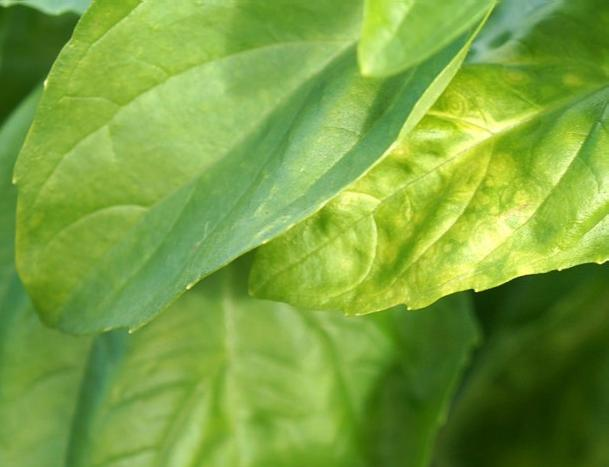Tomato leaf: (12, 0, 447, 335), (245, 0, 609, 312)
